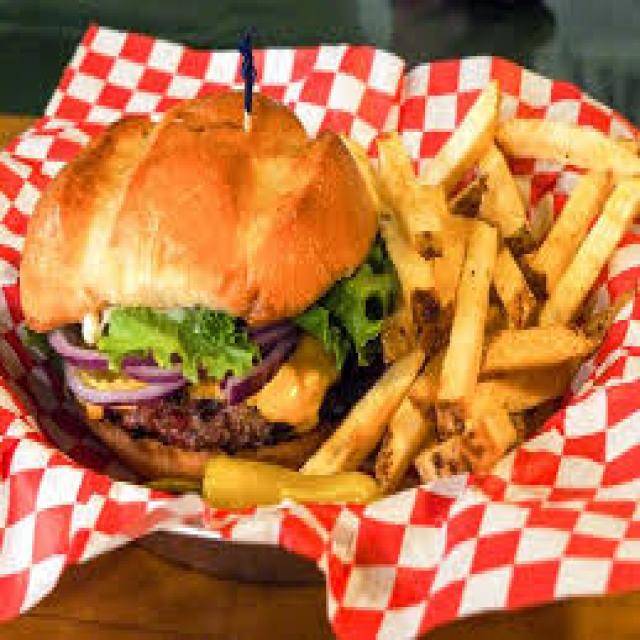Burger: (12, 69, 366, 498)
French Fries: (358, 82, 635, 485)
